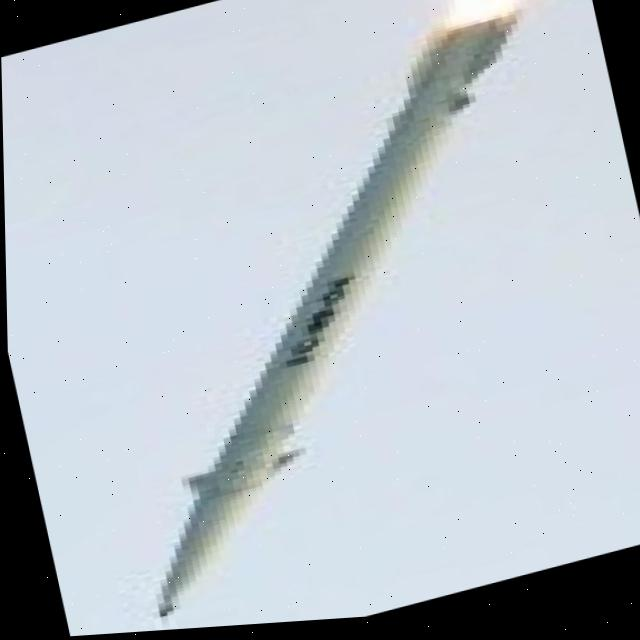missile: (33, 7, 622, 638)
